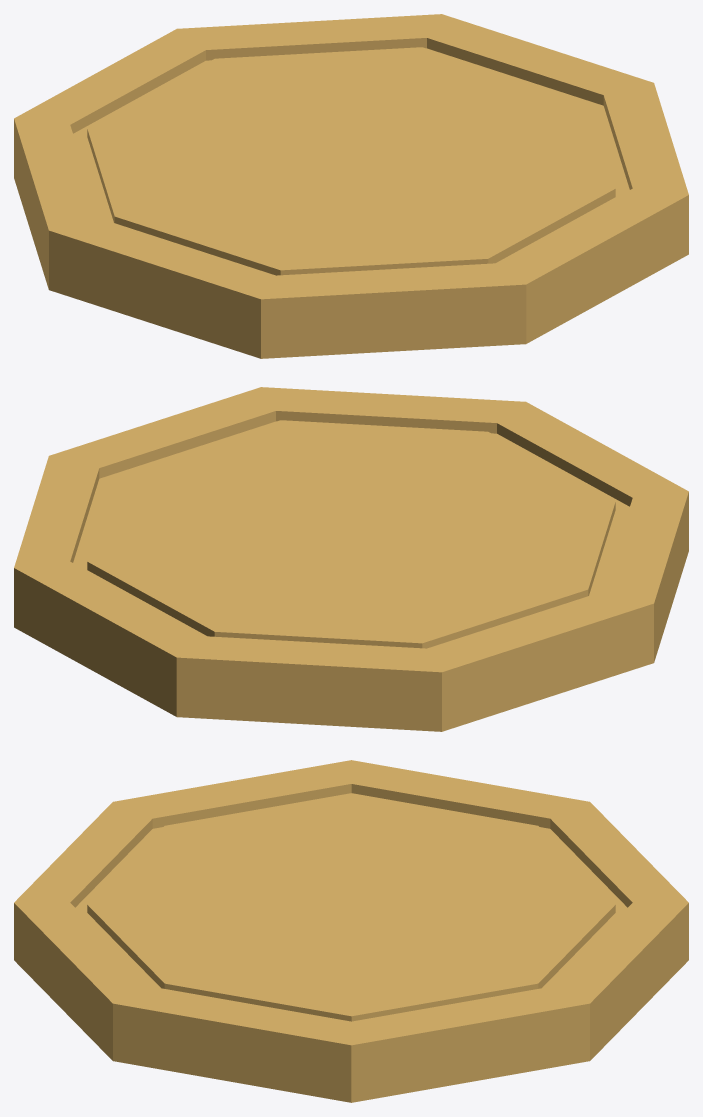
File: MonedaOro.fbx
3 views of the same model, one above another, from view 1: azimuth 30°, elevation 25°; view 2: azimuth 150°, elevation 25°; view 3: azimuth 270°, elevation 25° (orthographic). The views are drawn at different scales.
Visible parts, largest first — view 1: Cylinder.089; view 2: Cylinder.089; view 3: Cylinder.089.
Boxes of the visible parts, x1,y1,x2,y2 form: Cylinder.089: (14,14,688,358); Cylinder.089: (14,387,688,731); Cylinder.089: (14,760,688,1102).
Bounding box in the file's own units: 7.81 × 0.7344 × 7.81.
